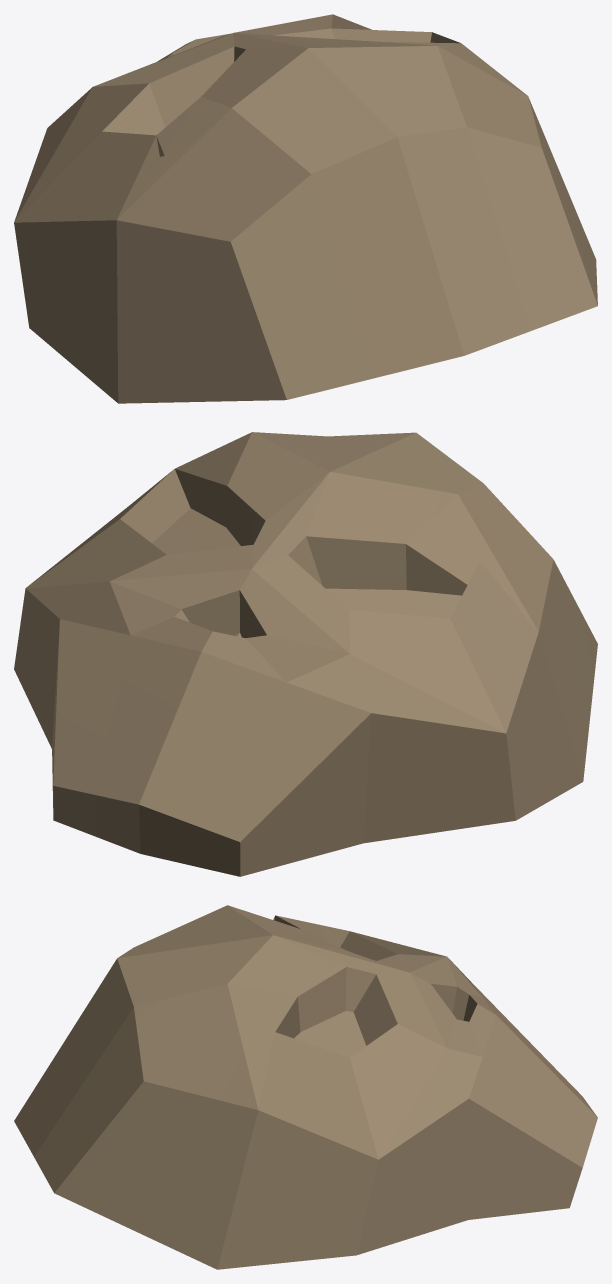
File: BossMask.fbx
3 views of the same model, one above another, from view 1: azimuth 30°, elevation 25°; view 2: azimuth 150°, elevation 25°; view 3: azimuth 270°, elevation 25° (orthographic). The views are drawn at different scales.
Visible parts, largest first — view 1: Boss_Skull_0; view 2: Boss_Skull_0; view 3: Boss_Skull_0.
Boxes of the visible parts, <box> form: Boss_Skull_0: <box>14,14,597,403</box>; Boss_Skull_0: <box>14,432,597,876</box>; Boss_Skull_0: <box>14,905,597,1269</box>.
Size of the model in its own units: 86.26 by 45.54 by 97.2.
